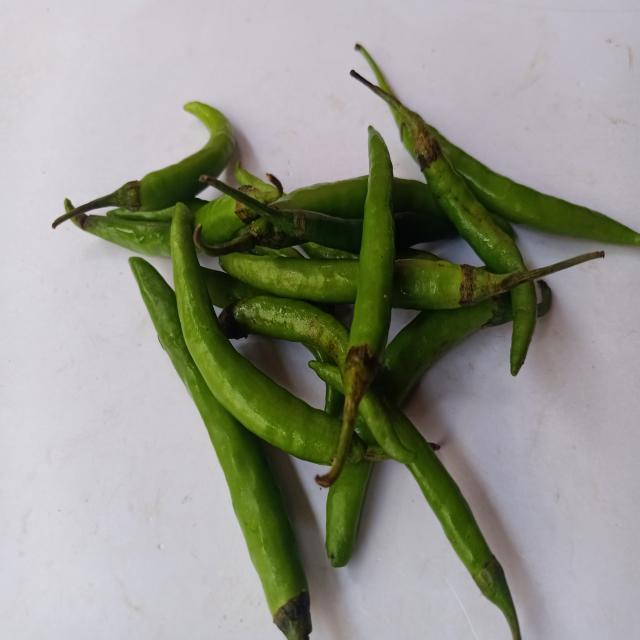Green Chilly: (128, 256, 312, 640), (170, 204, 341, 465), (351, 69, 528, 273), (316, 125, 396, 487), (51, 100, 235, 228), (407, 449, 522, 640), (511, 281, 538, 375)
